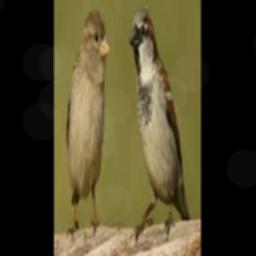Sparrow: (130, 8, 192, 239), (67, 10, 111, 242)
